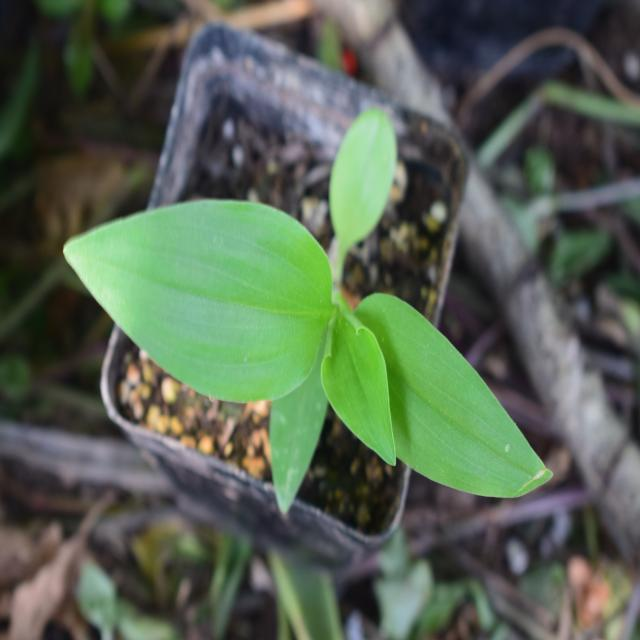Common Dayflower: (59, 164, 556, 528)
